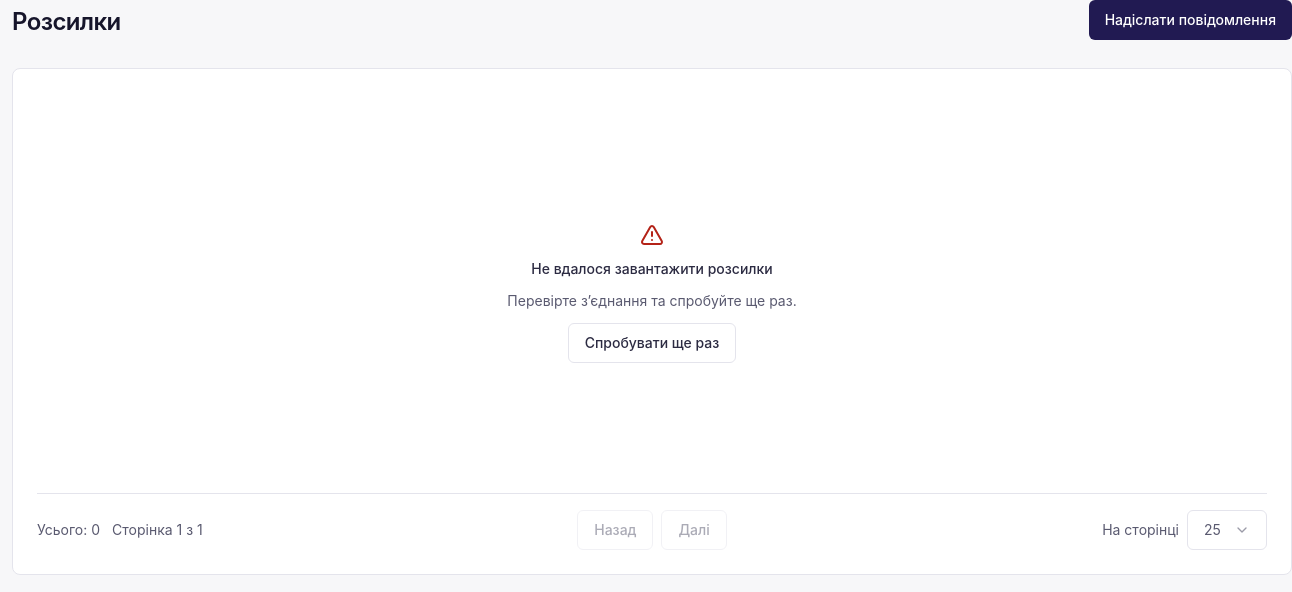
Test: broadcast history › shows the load error and retries
Click the button "Спробувати ще раз". click: point(652, 343)
box: [568,323,736,363]
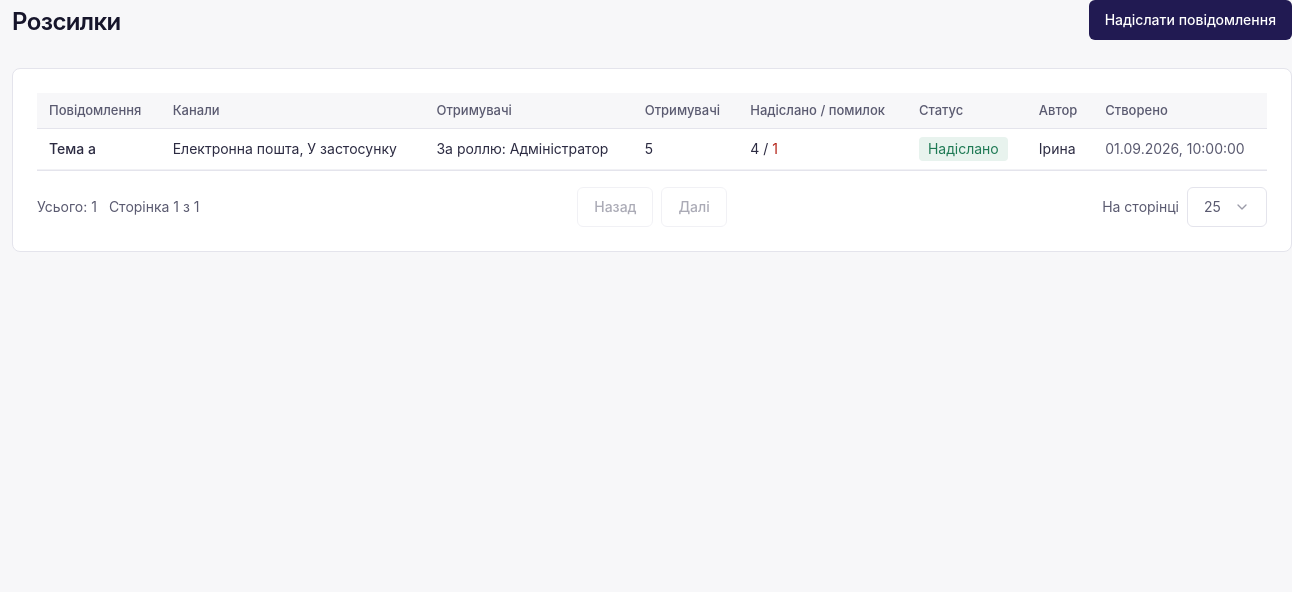
Check: the link "Тема a" is shown, box [49,139,96,159]
